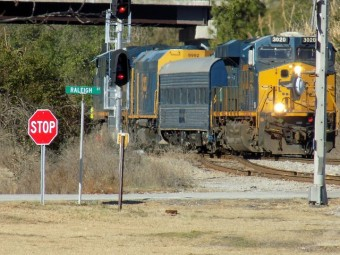SS: (29, 108, 59, 145)
